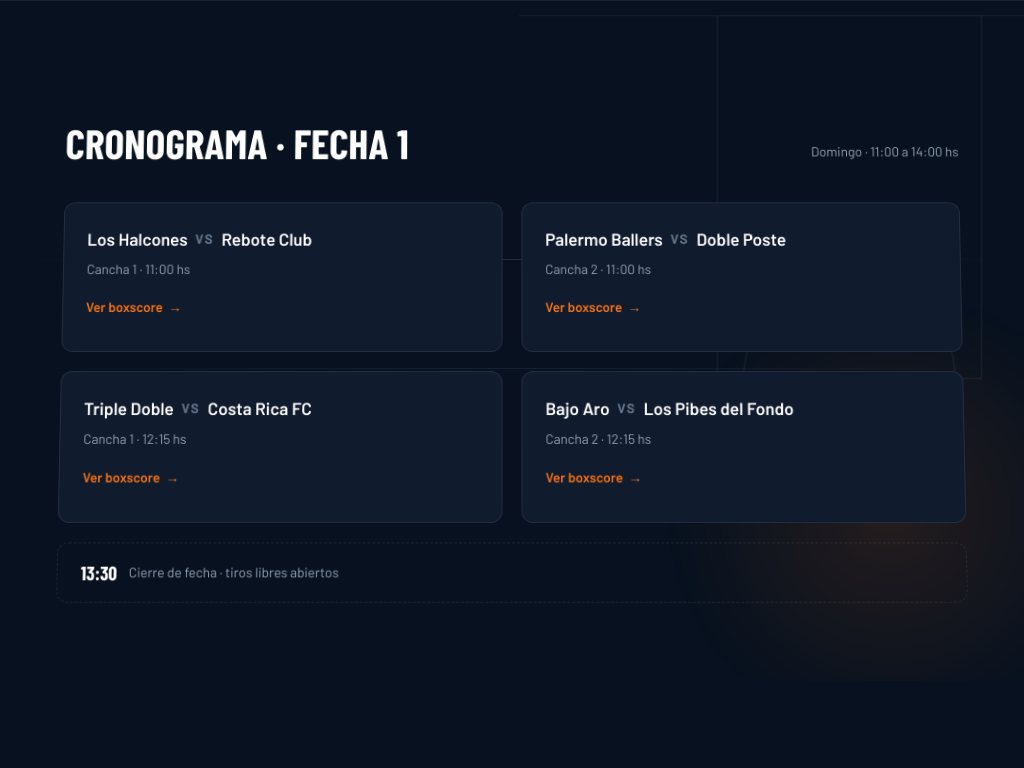
Test: Schedule › deja abierto un solo boxscore a la vez
Click the button "Ver boxscore →" below "Los Halcones" at x=134, y=308, box [86,287,182,328]
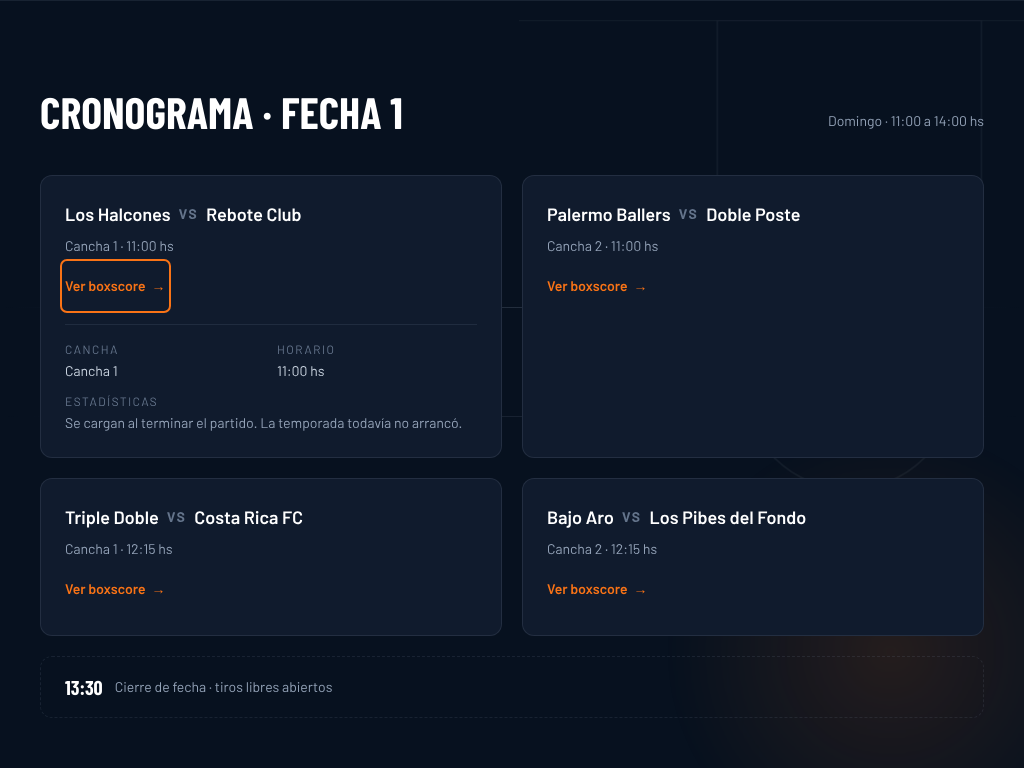
Click the button "Ver boxscore →" below "Palermo Ballers" at x=597, y=286, box [547,264,648,308]
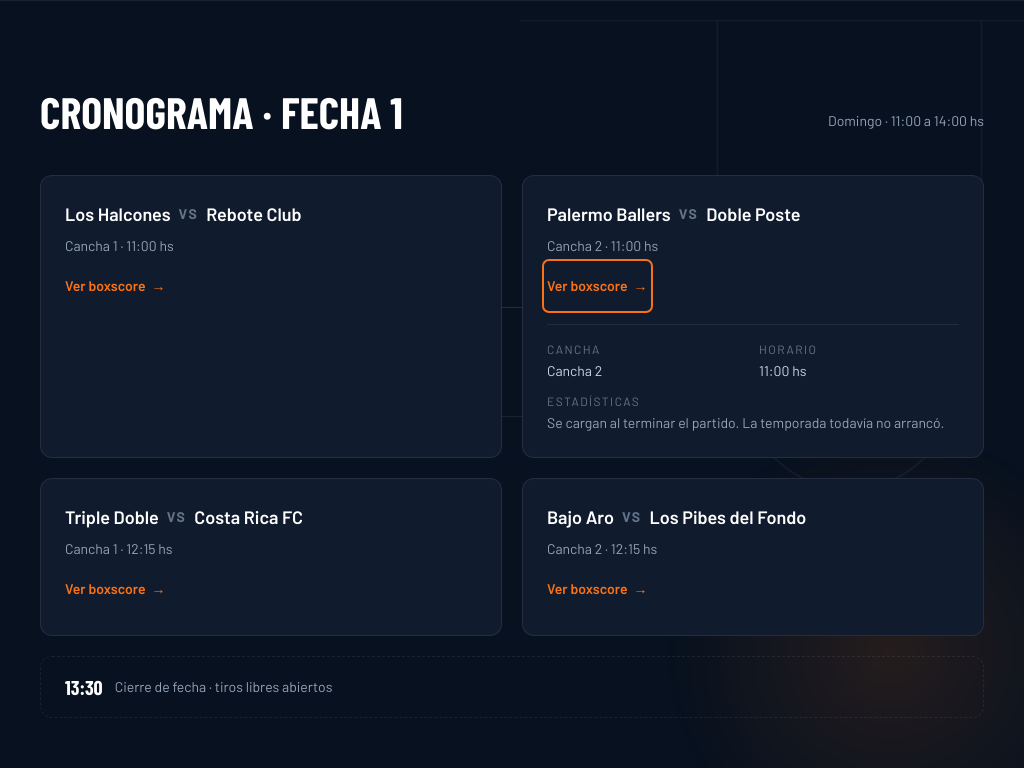
Result: the button "Ver boxscore →" below "Los Halcones" is collapsed at [65,264,166,308]
Result: the button "Ver boxscore →" below "Palermo Ballers" is expanded at [547,264,648,308]
